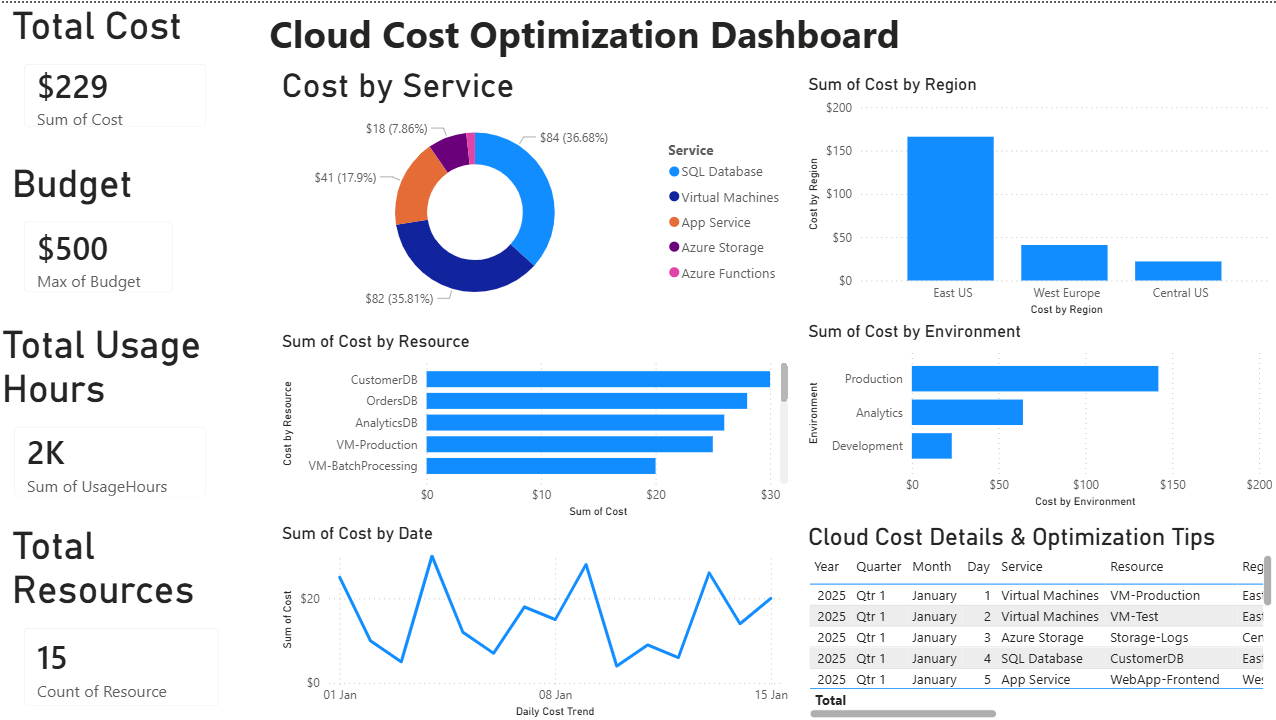

What the dashboard file says about the page in this screenshot:
{"tool":"powerbi","page":{"name":"Page 1","canvas":[1280,720],"ordinal":0},"visuals":[{"type":"cardVisual","title":"Total Cost","fields":{"Data":["Sum(azure_cloud_cost_data.Cost)"]},"box":[9.6,0,216.8,141.3],"z":0},{"type":"cardVisual","title":"Budget","fields":{"Data":["Max(azure_cloud_cost_data.Budget)"]},"box":[9.6,157.8,183.9,149.6],"z":1000},{"type":"cardVisual","title":"Total Usage Hours","fields":{"Data":["Sum(azure_cloud_cost_data.UsageHours)"]},"box":[0,318.4,226.4,192.1],"z":2000},{"type":"cardVisual","title":"Total Resources","fields":{"Data":["Count(azure_cloud_cost_data.Resource)"]},"box":[9.6,520.1,229.2,200.3],"z":3000},{"type":"donutChart","title":"Cost by Service","fields":{"Category":["azure_cloud_cost_data.Service"],"Y":["Sum(azure_cloud_cost_data.Cost)"]},"box":[280,62.5,516.2,256.2],"z":4000},{"type":"clusteredColumnChart","fields":{"Category":["azure_cloud_cost_data.Region"],"Y":["Sum(azure_cloud_cost_data.Cost)"]},"box":[806.2,71.2,473.8,246.2],"z":5000},{"type":"clusteredBarChart","fields":{"Category":["azure_cloud_cost_data.Resource"],"Y":["Sum(azure_cloud_cost_data.Cost)"]},"box":[280,327.5,516.2,192.5],"z":6000},{"type":"lineChart","fields":{"Category":["azure_cloud_cost_data.Date"],"Y":["Sum(azure_cloud_cost_data.Cost)"]},"box":[280,520,516,200],"z":7000},{"type":"clusteredBarChart","fields":{"Category":["azure_cloud_cost_data.Environment"],"Y":["Sum(azure_cloud_cost_data.Cost)"]},"box":[806,318,474,192],"z":8000},{"type":"tableEx","title":"Cloud Cost Details & Optimization Tips","fields":{"Values":["azure_cloud_cost_data.Date.Variation.Date Hierarchy.Year","azure_cloud_cost_data.Date.Variation.Date Hierarchy.Quarter","azure_cloud_cost_data.Date.Variation.Date Hierarchy.Month","azure_cloud_cost_data.Date.Variation.Date Hierarchy.Day","azure_cloud_cost_data.Service","azure_cloud_cost_data.Resource","azure_cloud_cost_data.Region","Sum(azure_cloud_cost_data.Cost)","Sum(azure_cloud_cost_data.Budget)","Sum(azure_cloud_cost_data.UsageHours)","azure_cloud_cost_data.Environment","azure_cloud_cost_data.OptimizationTip"]},"box":[806.2,520,473.8,200],"z":9000},{"type":"textbox","box":[267.5,0,701.2,62.5],"z":10000}]}

Visuals, with their boxes in screenshot pixels (x1, y1, x2, y2), scaled from the page's 1280x720 canvas onto the 1276x720 screenshot:
"Total Cost" cardVisual: [10, 0, 226, 141]
"Budget" cardVisual: [10, 158, 193, 307]
"Total Usage Hours" cardVisual: [0, 318, 226, 510]
"Total Resources" cardVisual: [10, 520, 238, 719]
"Cost by Service" donutChart: [279, 62, 794, 319]
clusteredColumnChart - azure_cloud_cost_data.Region x Sum(azure_cloud_cost_data.Cost): [804, 71, 1275, 317]
clusteredBarChart - azure_cloud_cost_data.Resource x Sum(azure_cloud_cost_data.Cost): [279, 328, 794, 520]
lineChart - azure_cloud_cost_data.Date x Sum(azure_cloud_cost_data.Cost): [279, 520, 794, 719]
clusteredBarChart - azure_cloud_cost_data.Environment x Sum(azure_cloud_cost_data.Cost): [803, 318, 1275, 510]
"Cloud Cost Details & Optimization Tips" tableEx: [804, 520, 1275, 719]
textbox: [267, 0, 966, 62]
